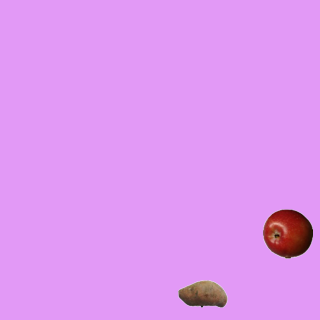Apple Braeburn: (262, 208, 312, 258)
Potato Sweet: (177, 268, 227, 318)
